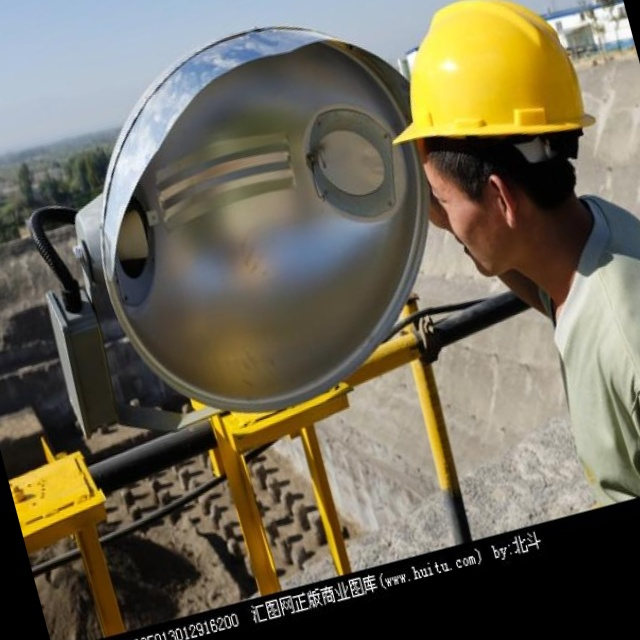Con_Casco: (365, 0, 626, 292)
